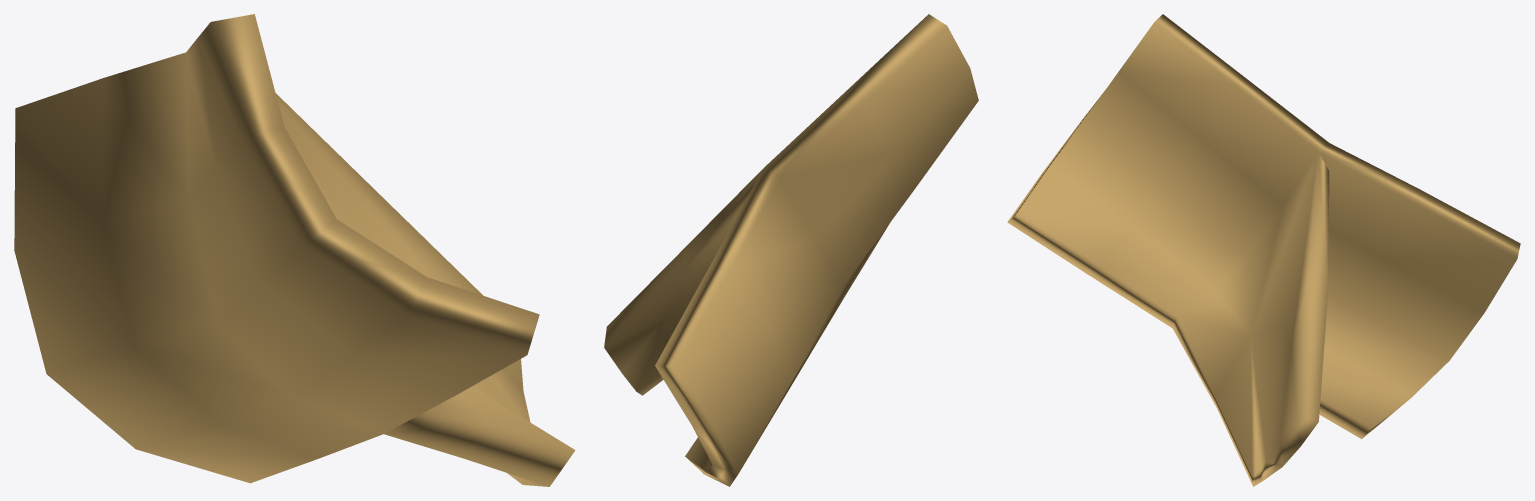
The picture shows the model from 3 angles, left to right: view 1: azimuth 30°, elevation 25°; view 2: azimuth 150°, elevation 25°; view 3: azimuth 270°, elevation 25°; orthographic projection. The views are drawn at different scales.
Visible parts, largest first — view 1: 右侧腕关节桡侧副韧带; view 2: 右侧腕关节桡侧副韧带; view 3: 右侧腕关节桡侧副韧带.
Part boxes in pixels (x1=…): 右侧腕关节桡侧副韧带: x1=14, y1=14, x2=575, y2=486; 右侧腕关节桡侧副韧带: x1=604, y1=14, x2=978, y2=486; 右侧腕关节桡侧副韧带: x1=1007, y1=14, x2=1520, y2=486.
Bounding box in the file's own units: 0.00841 × 0.0116 × 0.0147.
